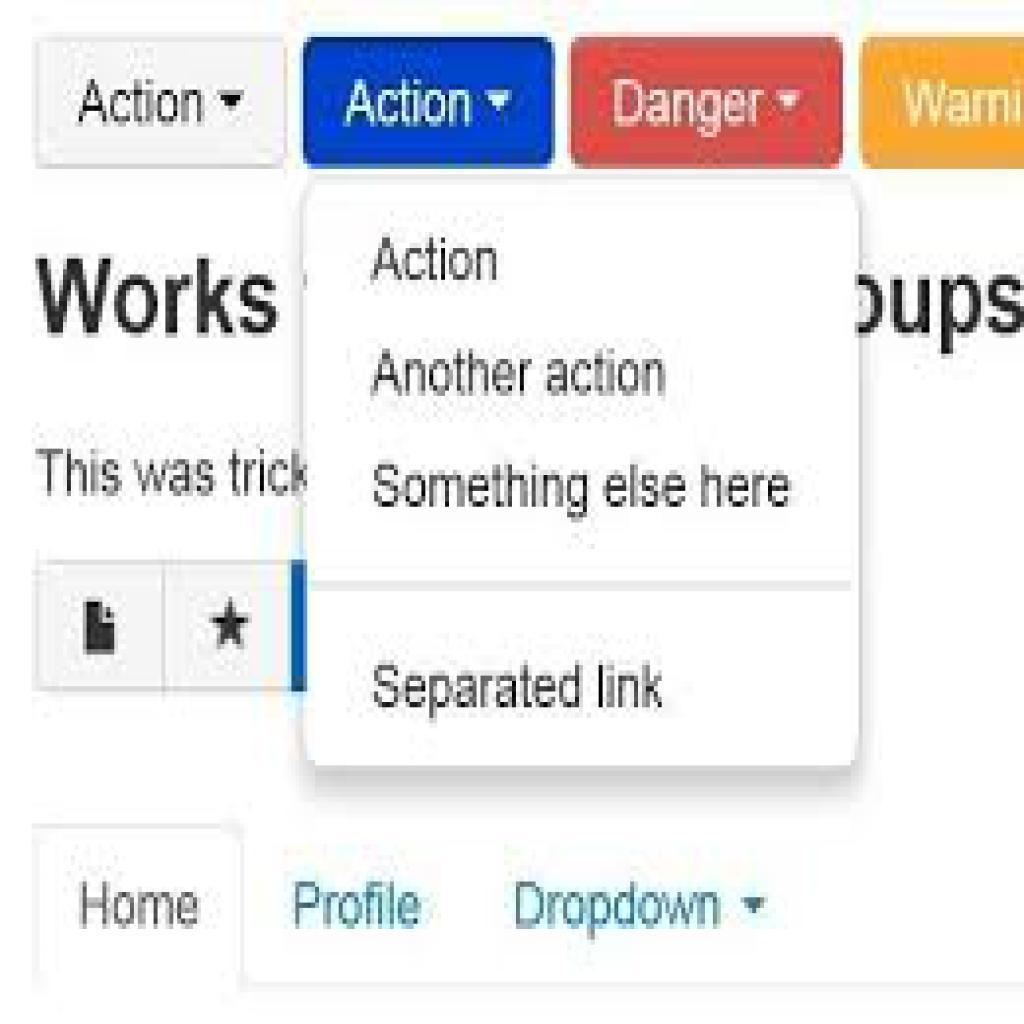button: (34, 826, 245, 987), (859, 37, 1024, 169)
dropdown: (570, 39, 844, 171), (302, 36, 559, 171), (40, 37, 291, 166)
icon: (66, 590, 132, 668), (204, 591, 265, 656), (739, 889, 774, 931)
label: (512, 877, 730, 942), (290, 873, 429, 934)
